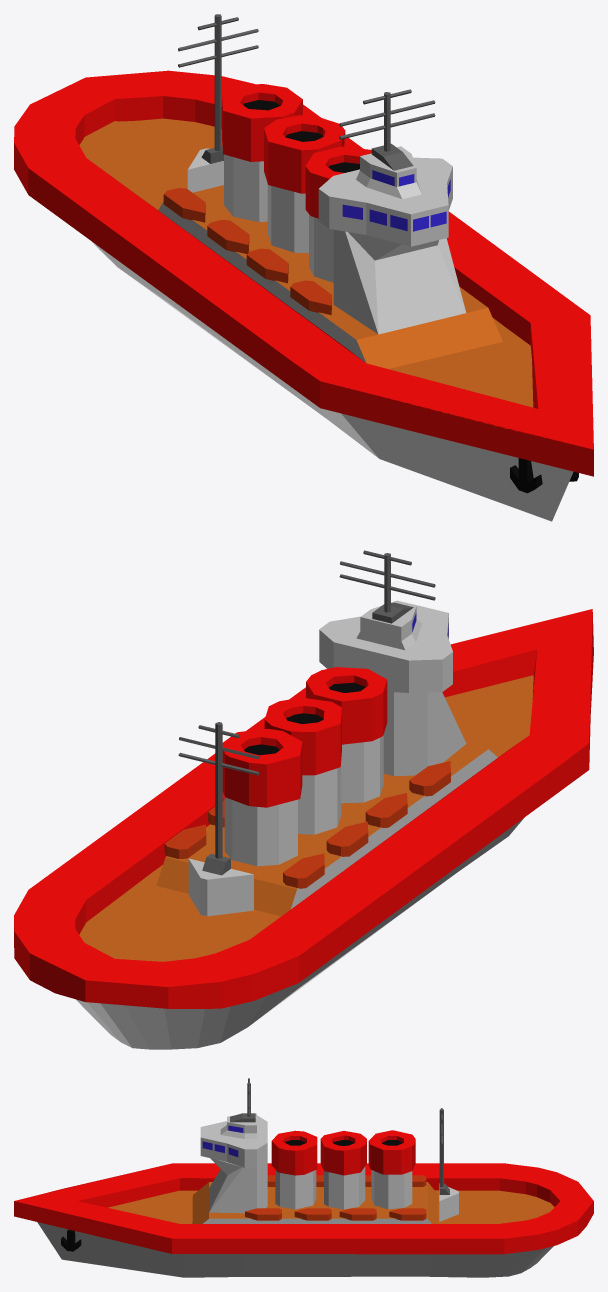
The model's file is c-ship-2.obj.
3 views of the same model, one above another, from view 1: azimuth 30°, elevation 25°; view 2: azimuth 150°, elevation 25°; view 3: azimuth 270°, elevation 25° (orthographic). The views are drawn at different scales.
Visible parts, largest first — view 1: Cube.029; view 2: Cube.029; view 3: Cube.029.
Part boxes in pixels (x1,y1,x2,y2): Cube.029: (14, 14, 593, 521); Cube.029: (14, 550, 593, 1049); Cube.029: (14, 1078, 593, 1277).
Bounding box in the file's own units: 1.66 × 1.8 × 5.38.
